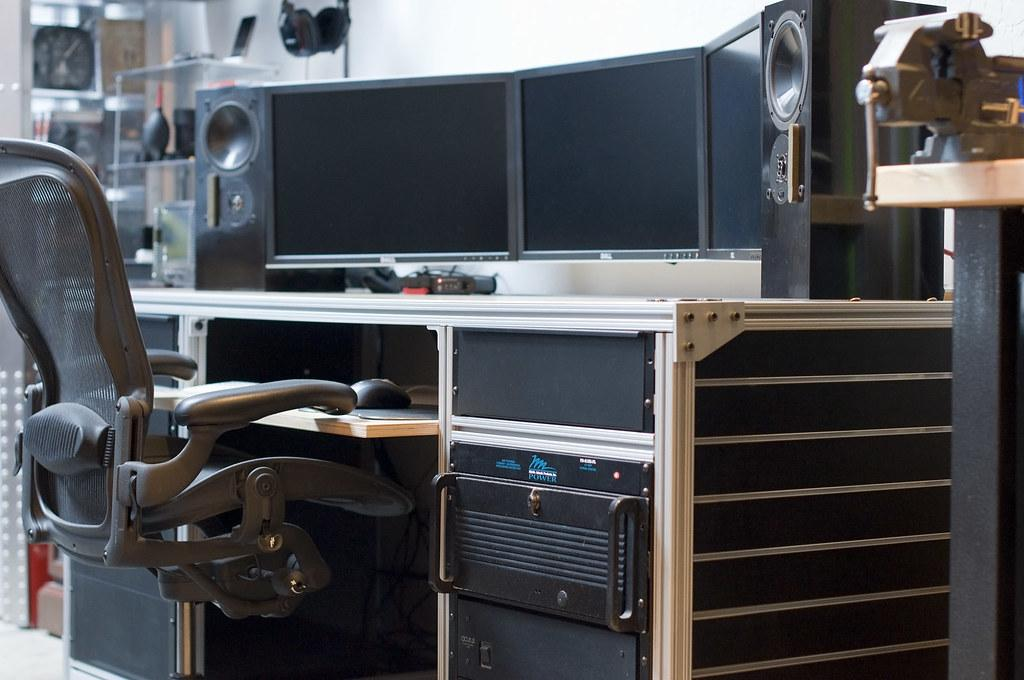computer: (261, 72, 517, 294), (515, 46, 707, 262)
